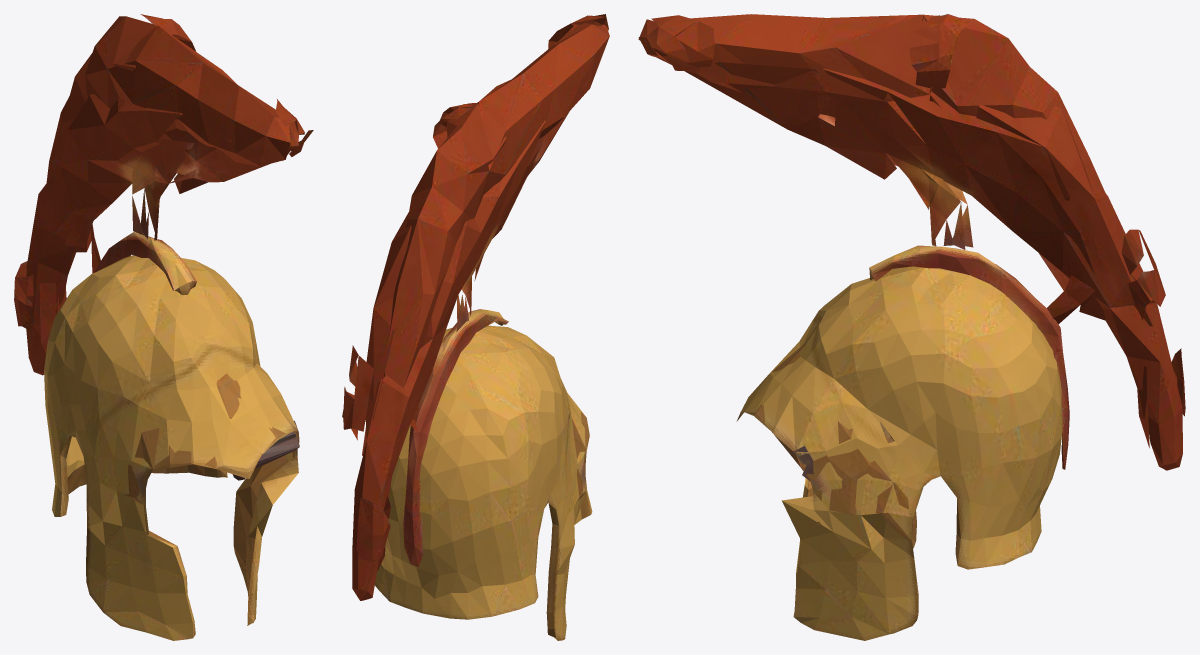
The model's file is ewm_t2gladiator_hat.glb.
3 views of the same model, side by side, from view 1: azimuth 30°, elevation 25°; view 2: azimuth 150°, elevation 25°; view 3: azimuth 270°, elevation 25° (orthographic). The views are drawn at different scales.
Visible parts, largest first — view 1: ewm_t2gladiator_hat; view 2: ewm_t2gladiator_hat; view 3: ewm_t2gladiator_hat.
Part boxes in pixels (box(x1,y1,x2,y2)): ewm_t2gladiator_hat: box(14, 14, 313, 640); ewm_t2gladiator_hat: box(342, 14, 609, 640); ewm_t2gladiator_hat: box(638, 14, 1185, 640).
Bounding box in the file's own units: 0.1786 × 0.5463 × 0.455.
Materials: 1 (1 with a texture image).
